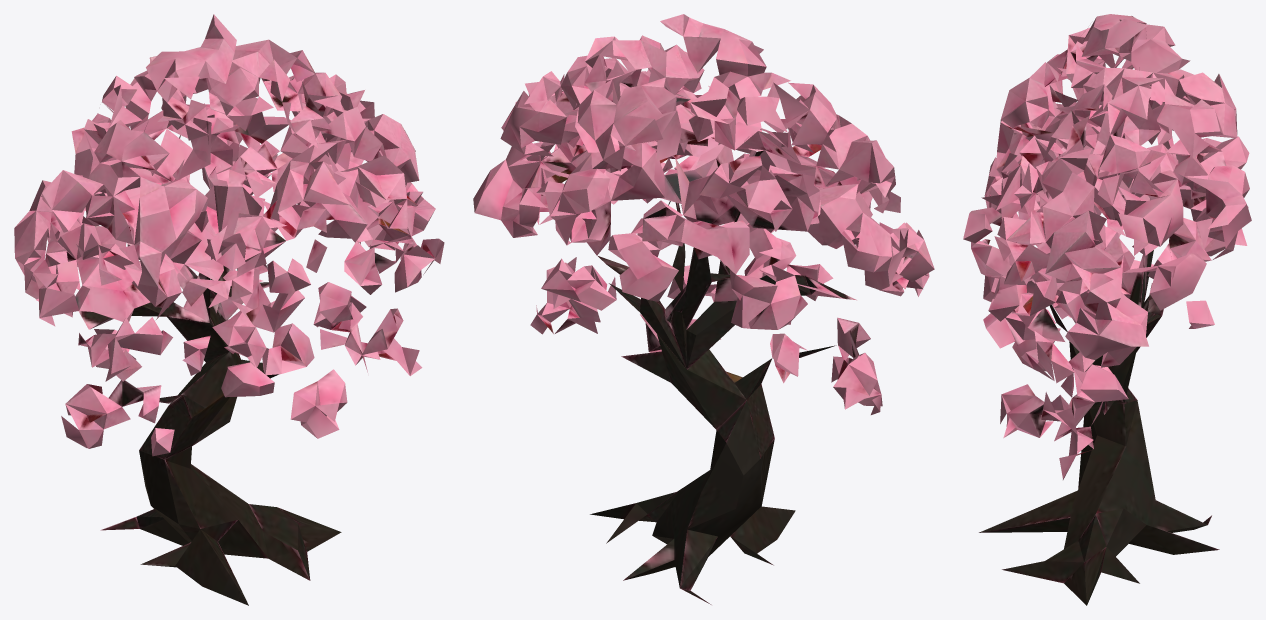
The model's file is sakura_tree.glb.
The picture shows the model from 3 angles, left to right: view 1: azimuth 30°, elevation 25°; view 2: azimuth 150°, elevation 25°; view 3: azimuth 270°, elevation 25°; orthographic projection. The views are drawn at different scales.
Size of the model in its own units: 1.54 by 1.88 by 0.9227.
Materials: 1 (1 with a texture image).
